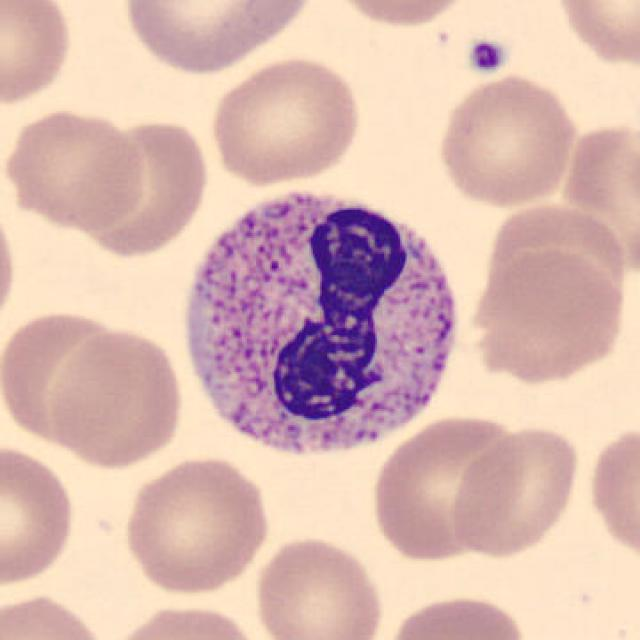Neutrophil: (170, 173, 474, 474)
Platelets: (464, 35, 512, 78)
RBC: (368, 411, 528, 564), (466, 243, 631, 386), (119, 453, 274, 598), (204, 53, 364, 189), (66, 115, 215, 259), (43, 324, 188, 471), (434, 70, 581, 210), (2, 305, 138, 453), (0, 104, 148, 233), (448, 421, 583, 561), (118, 0, 318, 78), (250, 532, 388, 640), (556, 114, 638, 286), (0, 439, 80, 591), (583, 418, 640, 569), (0, 0, 76, 111), (380, 590, 531, 640), (102, 599, 268, 640), (550, 0, 638, 71), (2, 589, 112, 640), (324, 0, 482, 32), (0, 190, 21, 338)
